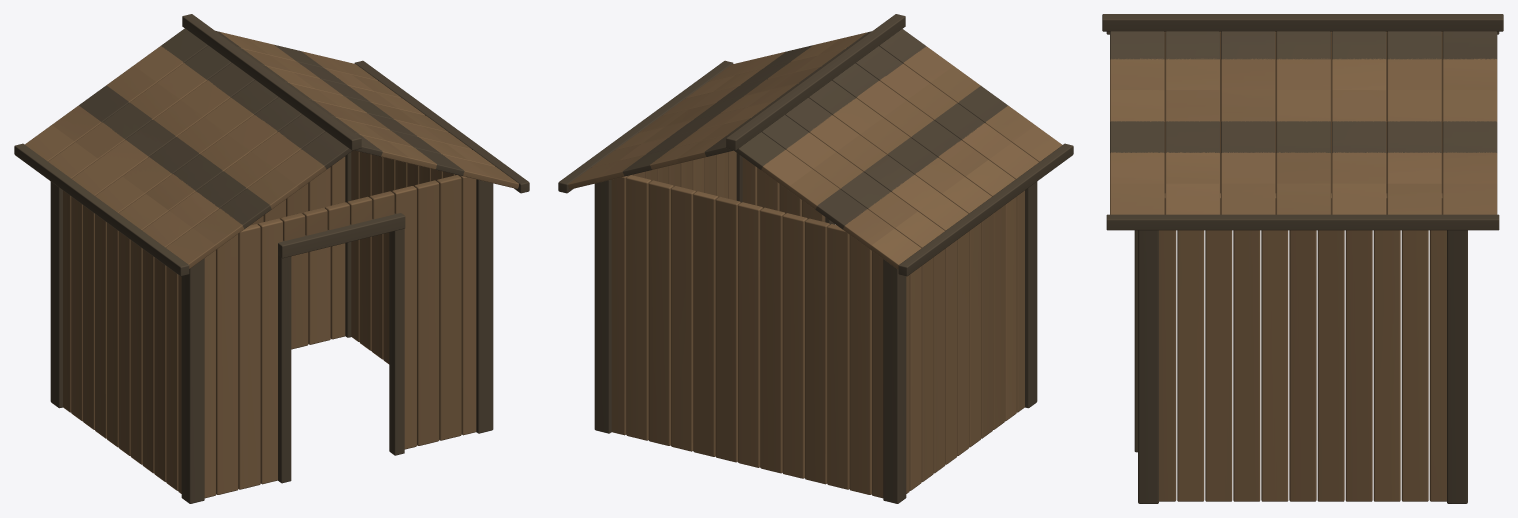
Rendered from shack.glb.
The picture shows the model from 3 angles, left to right: view 1: azimuth 30°, elevation 25°; view 2: azimuth 150°, elevation 25°; view 3: azimuth 270°, elevation 25°; orthographic projection. The views are drawn at different scales.
Parts seen in each view (by area): view 1: Small Shack; view 2: Small Shack; view 3: Small Shack.
Part boxes in pixels (x1,y1,x2,y2): Small Shack: (14, 14, 529, 503); Small Shack: (558, 14, 1073, 503); Small Shack: (1102, 14, 1503, 503).
Bounding box in the file's own units: 3.39 × 3.15 × 2.86.
Materials: 2 (2 with a texture image).
